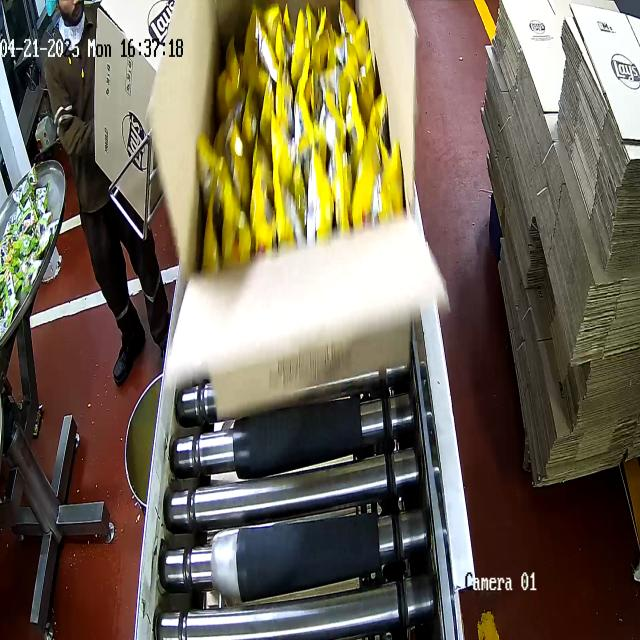SALTED: (205, 13, 388, 259)
